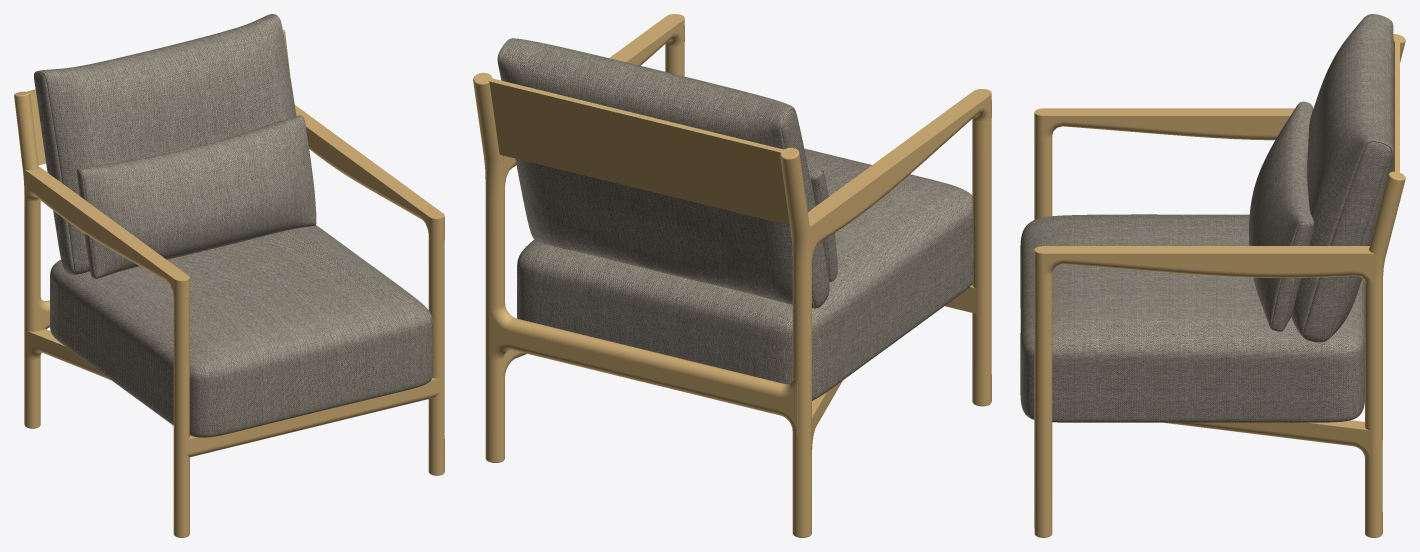
File: orionarmchair.glb
3 renders of one model, left to right at view 1: azimuth 30°, elevation 25°; view 2: azimuth 150°, elevation 25°; view 3: azimuth 270°, elevation 25°, orthographic. The views are drawn at different scales.
Parts seen in each view (by area): view 1: armchair.001, armchair, armchair sans coussins; view 2: armchair sans coussins, armchair.001, armchair; view 3: armchair.001, armchair sans coussins, armchair.
Part boxes in pixels (bbox=[...]): armchair.001: bbox=[50, 225, 432, 437]; armchair: bbox=[34, 14, 316, 279]; armchair sans coussins: bbox=[14, 30, 444, 537]; armchair sans coussins: bbox=[473, 14, 991, 537]; armchair.001: bbox=[517, 148, 973, 400]; armchair: bbox=[497, 38, 837, 308]; armchair.001: bbox=[1020, 214, 1364, 422]; armchair sans coussins: bbox=[1034, 34, 1405, 537]; armchair: bbox=[1249, 14, 1394, 342].
Size of the model in its own units: 0.67 by 0.8365 by 0.7515.
2 materials, 1 textured.
